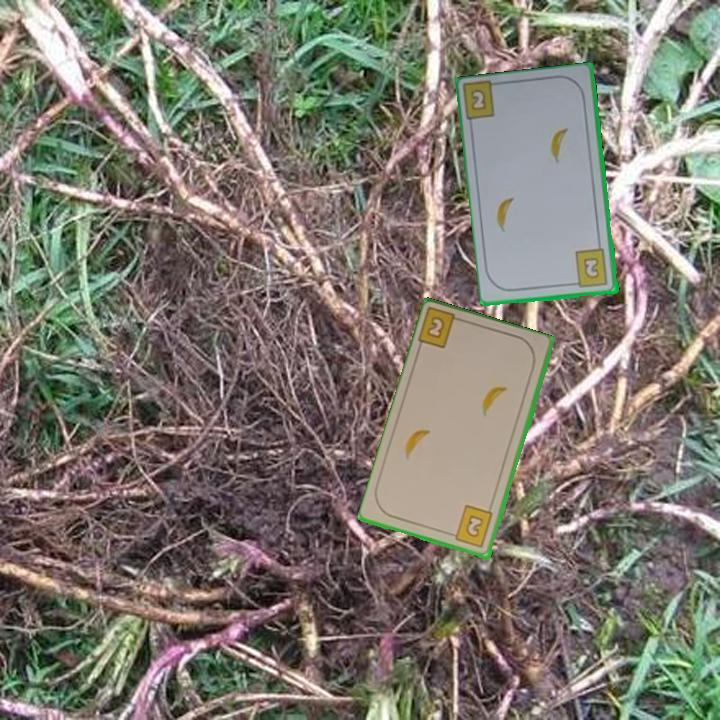2b: (446, 502, 496, 551), (416, 306, 468, 352), (569, 246, 611, 291), (467, 86, 490, 114)
